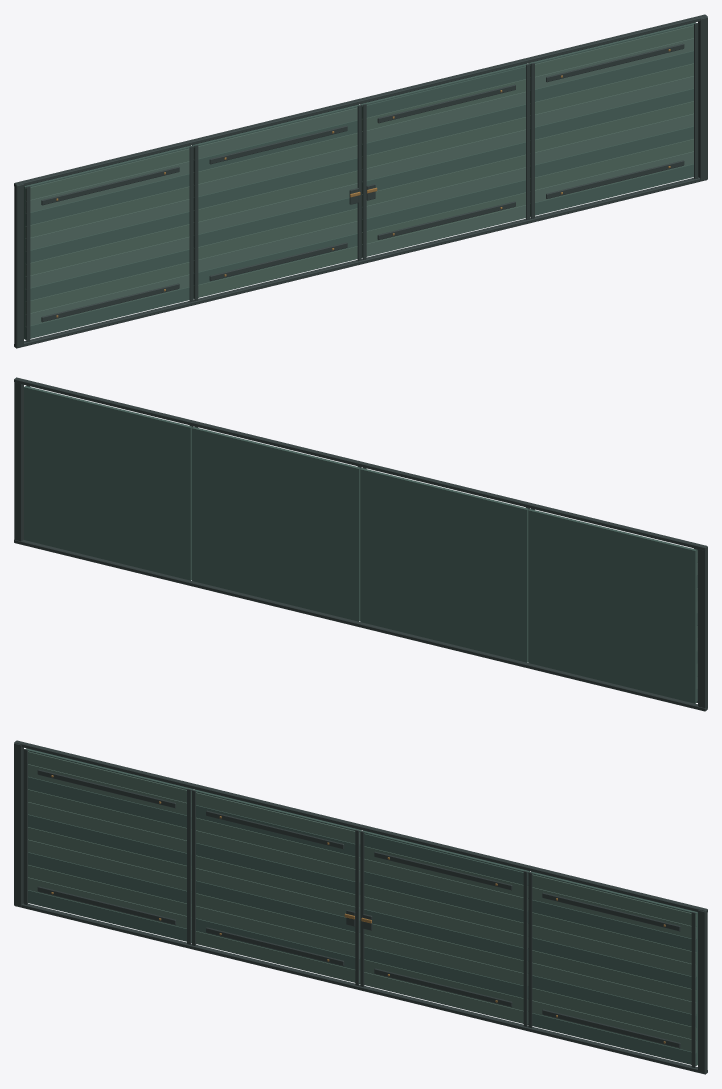
The model's file is w0b-closed-front-16m.glb.
3 views of the same model, one above another, from view 1: azimuth 30°, elevation 25°; view 2: azimuth 150°, elevation 25°; view 3: azimuth 330°, elevation 25° (orthographic).
Parts seen in each view (by area): view 1: W0b | closed shutter for 16 m lot; view 2: W0b | closed shutter for 16 m lot; view 3: W0b | closed shutter for 16 m lot.
Boxes of the visible parts, left/top/right/bottom form: W0b | closed shutter for 16 m lot: left=14, top=14, right=707, bottom=348; W0b | closed shutter for 16 m lot: left=14, top=377, right=707, bottom=711; W0b | closed shutter for 16 m lot: left=14, top=740, right=707, bottom=1074.
Size of the model in its own units: 8.8 by 2 by 0.1.
